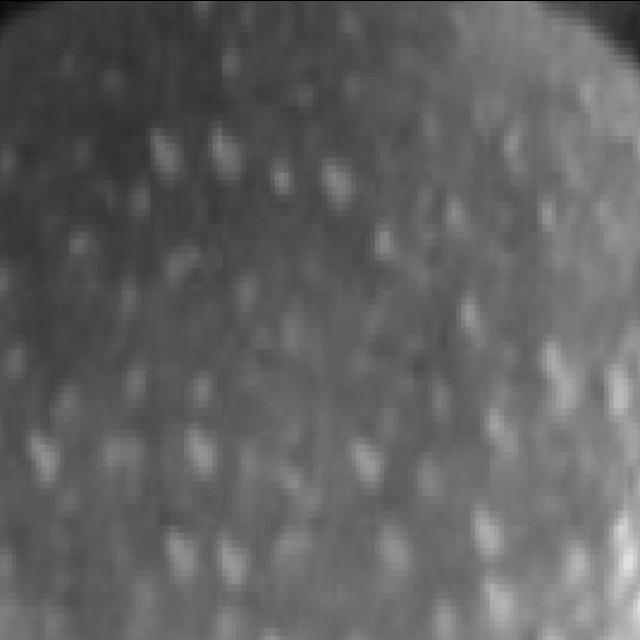whitehead: (18, 42, 639, 624)
